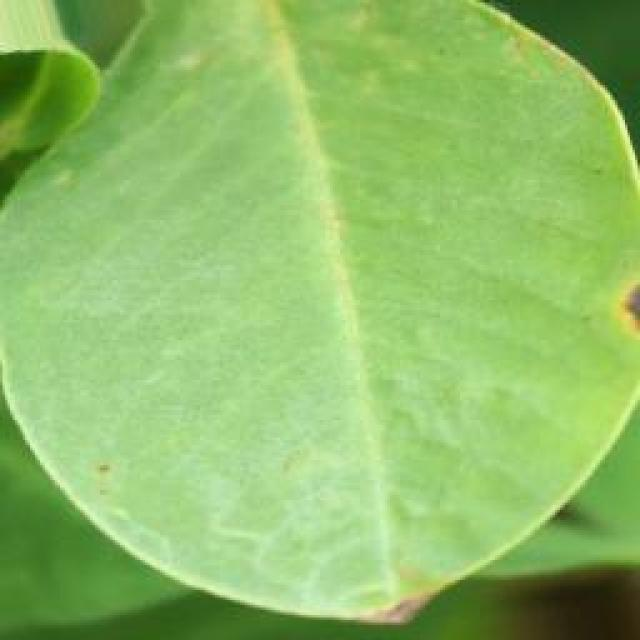Sigatoka: (334, 555, 436, 631), (75, 415, 159, 503), (595, 280, 640, 342)
